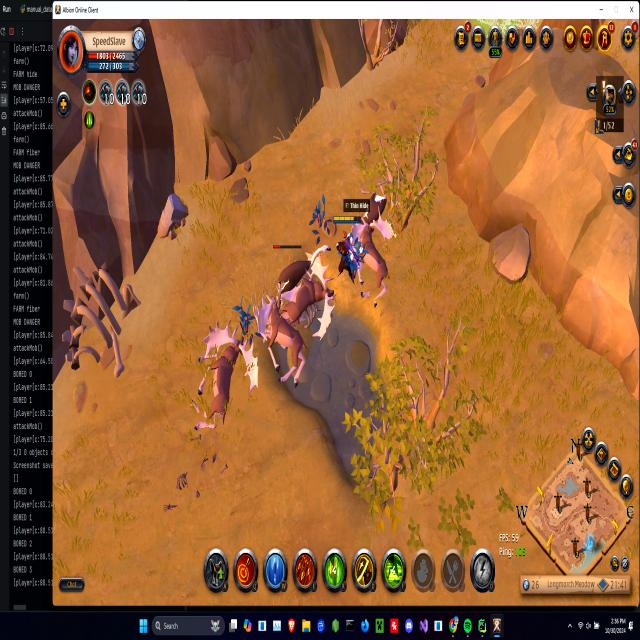hide: (340, 229, 368, 280)
mob: (194, 318, 259, 446), (255, 291, 308, 389), (281, 257, 336, 333), (352, 214, 391, 306), (360, 181, 389, 222)
ore: (270, 234, 329, 304)
red: (334, 213, 363, 282)
